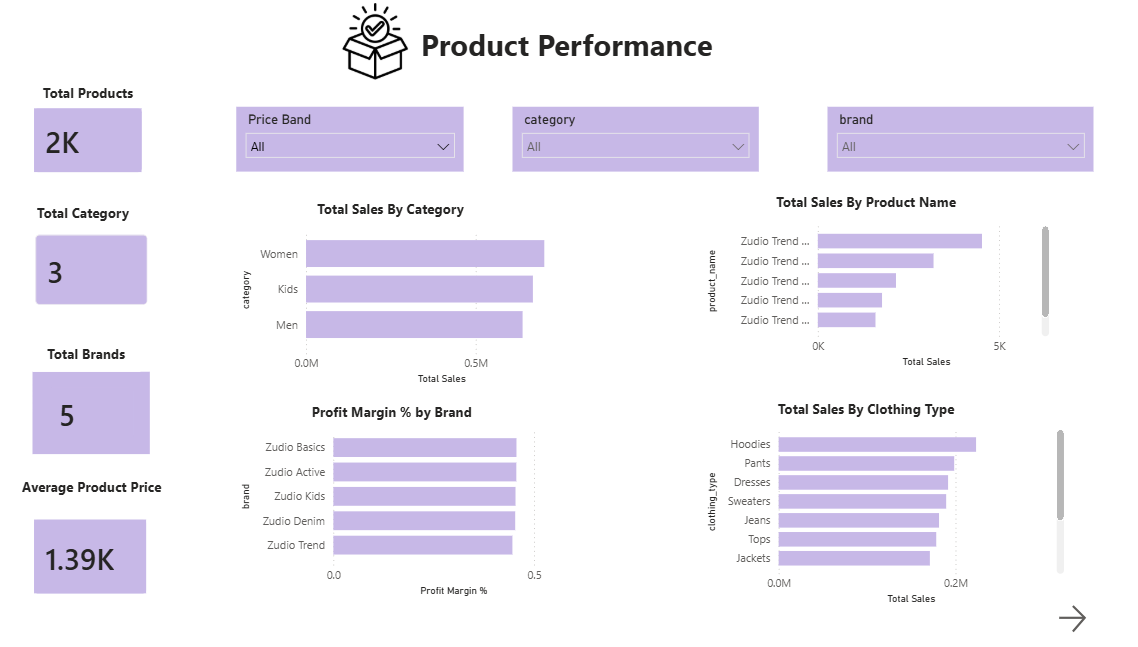

The dashboard page shown, as its layout file describes it:
{"tool":"powerbi","page":{"name":"Product Performance","canvas":[1280,720],"ordinal":1},"visuals":[{"type":"textbox","box":[417.2,30.2,421.3,64.5],"z":0},{"type":"cardVisual","fields":{"Data":["All Measures.Total Products"]},"box":[26.1,109.8,152.3,104.3],"z":1000},{"type":"cardVisual","fields":{"Data":["All Measures.Total Categories"]},"box":[27.4,248.4,157.8,111.1],"z":2000},{"type":"cardVisual","fields":{"Data":["All Measures.Total Brands"]},"box":[41.2,415.8,129,90.6],"z":3000},{"type":"cardVisual","fields":{"Data":["All Measures.Average Product Price"]},"box":[26.1,561.2,157.8,115.3],"z":4000},{"type":"barChart","fields":{"Category":["products.category"],"Y":["All Measures.Total Sales"]},"box":[264.8,242.9,393.8,192.1],"z":5000},{"type":"barChart","fields":{"Category":["products.product_name"],"Y":["All Measures.Total Sales"]},"box":[776.7,242.9,385.6,172.9],"z":6000},{"type":"barChart","fields":{"Category":["products.brand"],"Y":["All Measures.Profit Margin %"]},"box":[264.8,465.2,384.2,201.7],"z":7000},{"type":"barChart","fields":{"Y":["All Measures.Total Sales"],"Category":["products.clothing_type"]},"box":[776.7,466.6,402.1,209.9],"z":8000},{"type":"slicer","fields":{"Values":["products.category"]},"box":[568.1,124.9,270.3,71.4],"z":9000},{"type":"slicer","fields":{"Values":["products.brand"]},"box":[913.9,124.9,292.3,71.4],"z":10000},{"type":"slicer","fields":{"Values":["products.Price Band"]},"box":[264.8,124.9,249.7,71.4],"z":11000},{"type":"textbox","box":[41.2,94.7,122.1,30.2],"z":12000},{"type":"textbox","box":[41.2,226.4,129,32.9],"z":13000},{"type":"textbox","box":[41.2,381.5,118,34.3],"z":14000},{"type":"textbox","box":[24.7,526.9,179.8,34.3],"z":15000},{"type":"textbox","box":[300.5,222.3,267.6,41.2],"z":16000},{"type":"textbox","box":[838.4,214.1,236,38.4],"z":17000},{"type":"textbox","box":[319.7,444.6,231.9,39.8],"z":18000},{"type":"textbox","box":[838.4,441.9,236,38.4],"z":19000},{"type":"actionButton","box":[1162.3,666.9,100,40],"z":20000},{"type":"image","box":[345.8,0,142.7,83.7],"z":21000}]}

Visuals, with their boxes in screenshot pixels (x1, y1, x2, y2), scaled from the page's 1280x720 canvas onto the 1138x647 screenshot:
textbox: left=371, top=27, right=745, bottom=85
cardVisual - All Measures.Total Products: left=23, top=99, right=159, bottom=192
cardVisual - All Measures.Total Categories: left=24, top=223, right=165, bottom=323
cardVisual - All Measures.Total Brands: left=37, top=374, right=151, bottom=455
cardVisual - All Measures.Average Product Price: left=23, top=504, right=163, bottom=608
barChart - products.category x All Measures.Total Sales: left=235, top=218, right=586, bottom=391
barChart - products.product_name x All Measures.Total Sales: left=691, top=218, right=1033, bottom=374
barChart - products.brand x All Measures.Profit Margin %: left=235, top=418, right=577, bottom=599
barChart - All Measures.Total Sales x products.clothing_type: left=691, top=419, right=1048, bottom=608
slicer - products.category: left=505, top=112, right=745, bottom=176
slicer - products.brand: left=813, top=112, right=1072, bottom=176
slicer - products.Price Band: left=235, top=112, right=457, bottom=176
textbox: left=37, top=85, right=145, bottom=112
textbox: left=37, top=203, right=151, bottom=233
textbox: left=37, top=343, right=142, bottom=374
textbox: left=22, top=473, right=182, bottom=504
textbox: left=267, top=200, right=505, bottom=237
textbox: left=745, top=192, right=955, bottom=227
textbox: left=284, top=400, right=490, bottom=435
textbox: left=745, top=397, right=955, bottom=432
actionButton: left=1033, top=599, right=1122, bottom=635
image: left=307, top=0, right=434, bottom=75
